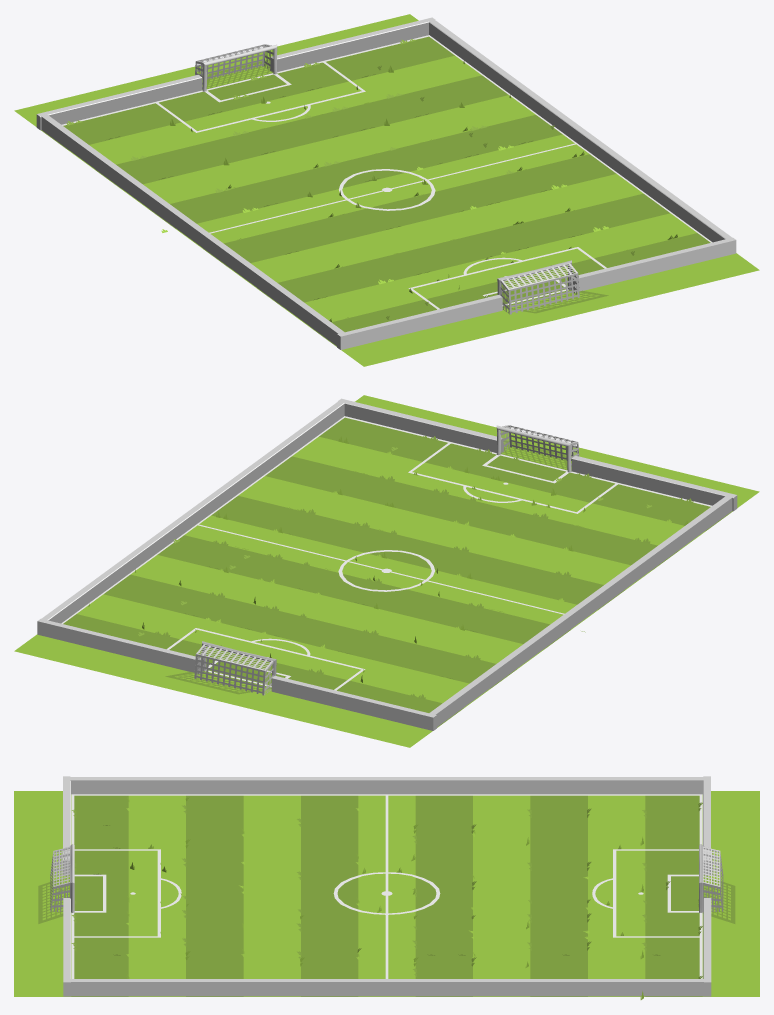
File: Playfield.fbx
The picture shows the model from 3 angles, top to bottom: view 1: azimuth 30°, elevation 25°; view 2: azimuth 150°, elevation 25°; view 3: azimuth 270°, elevation 25°; orthographic projection. The views are drawn at different scales.
Visible parts, largest first — view 1: pPlane192; view 2: pPlane192; view 3: pPlane192.
Part boxes in pixels (bbox=[...]): pPlane192: bbox=[14, 14, 759, 366]; pPlane192: bbox=[14, 395, 759, 747]; pPlane192: bbox=[14, 776, 759, 999].
Size of the model in its own units: 64.51 by 4.58 by 94.
1 material, 1 textured.
